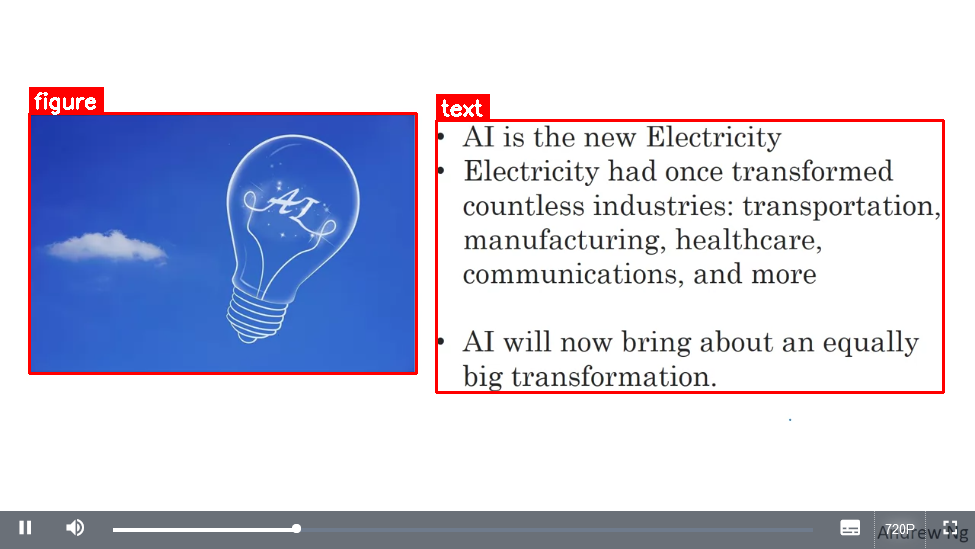figure: (29, 113, 416, 373)
text: (436, 120, 943, 392)
